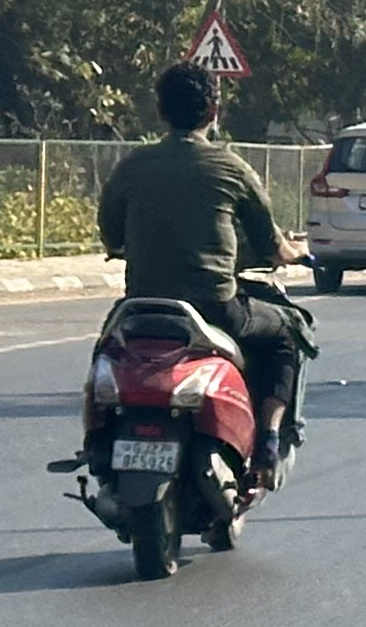BikeWithRider: (39, 55, 327, 583)
Helmet: (147, 56, 232, 143)
